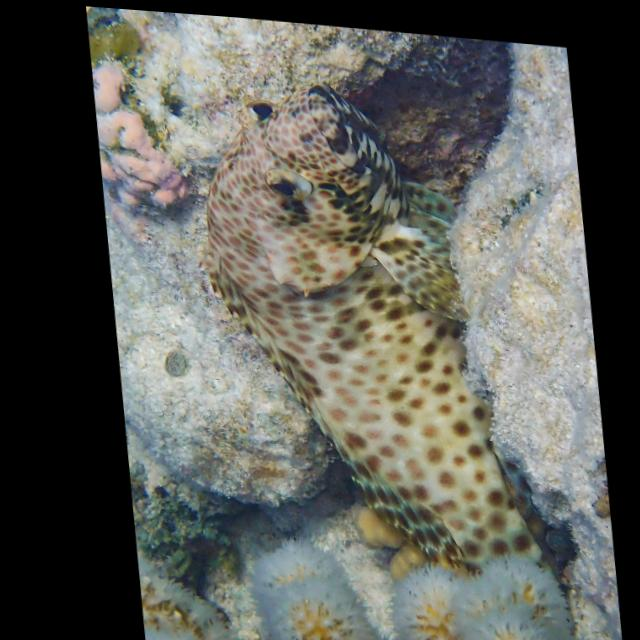Groupers: (178, 68, 552, 593)
